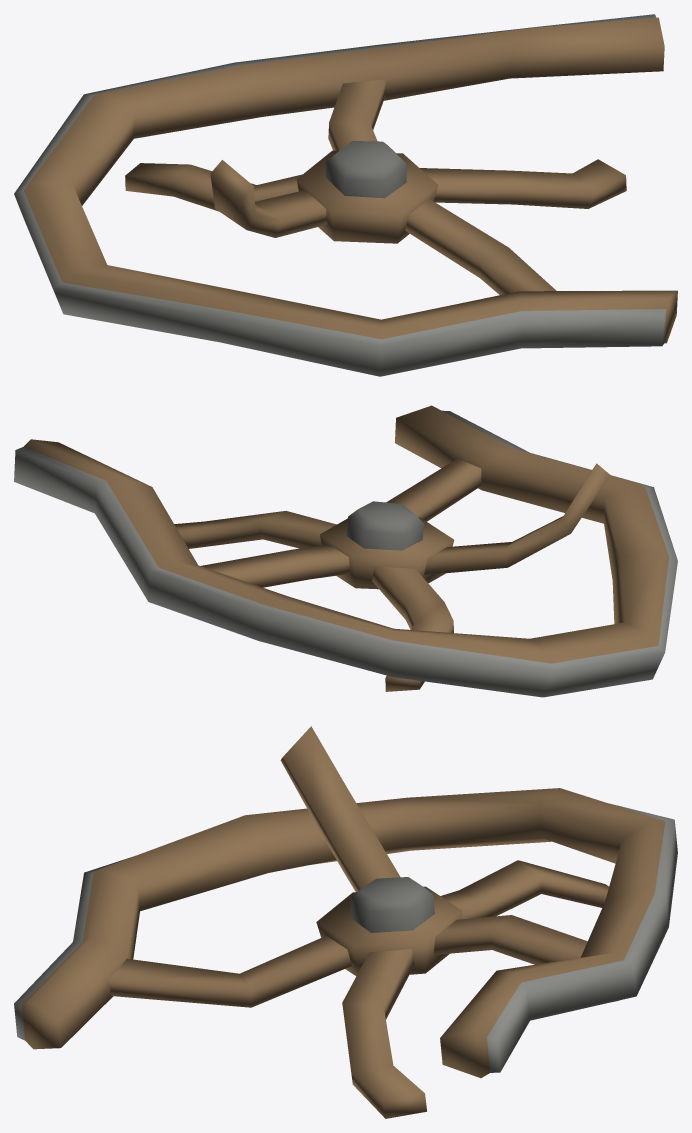
The model's file is rpgpp_av_wheel_01b.gltf.
3 renders of one model, top to bottom at view 1: azimuth 30°, elevation 25°; view 2: azimuth 150°, elevation 25°; view 3: azimuth 270°, elevation 25°, orthographic. The views are drawn at different scales.
Visible parts, largest first — view 1: rpgpp_av_wheel_01b; view 2: rpgpp_av_wheel_01b; view 3: rpgpp_av_wheel_01b.
Boxes of the visible parts, x1=… form: rpgpp_av_wheel_01b: x1=14, y1=14, x2=677, y2=376; rpgpp_av_wheel_01b: x1=14, y1=405, x2=677, y2=697; rpgpp_av_wheel_01b: x1=14, y1=726, x2=677, y2=1118.
Size of the model in its own units: 0.0163 by 0.00401 by 0.0141.
Materials: 1 (1 with a texture image).
